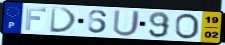6: (87, 9, 109, 35)
9: (148, 11, 171, 39)
D: (49, 6, 79, 34)
F: (25, 6, 48, 31)
O: (174, 13, 200, 40)
U: (111, 9, 142, 38)
